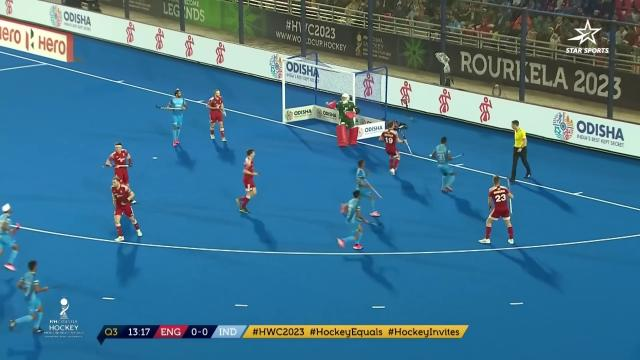ball: (426, 152, 434, 159)
